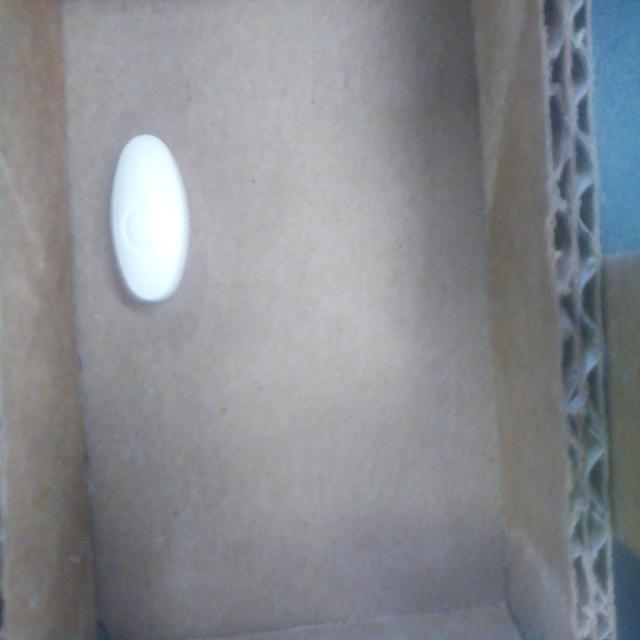pill: (111, 134, 189, 301)
